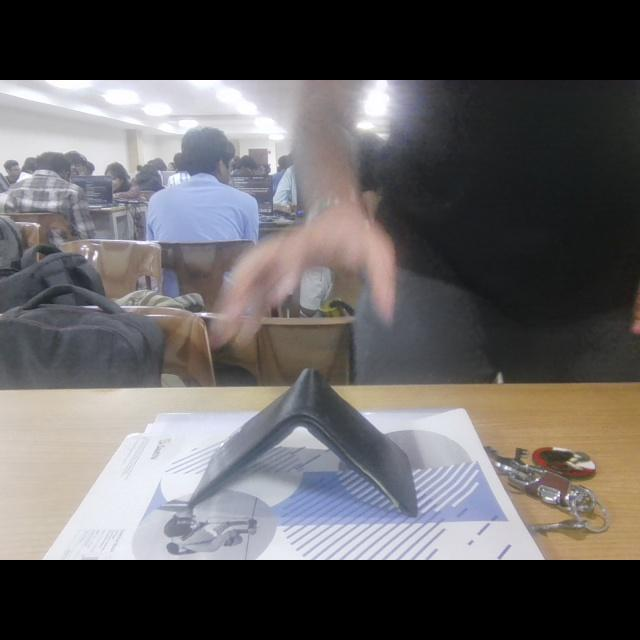keys: (479, 410, 618, 544)
wallet: (196, 362, 440, 526)
